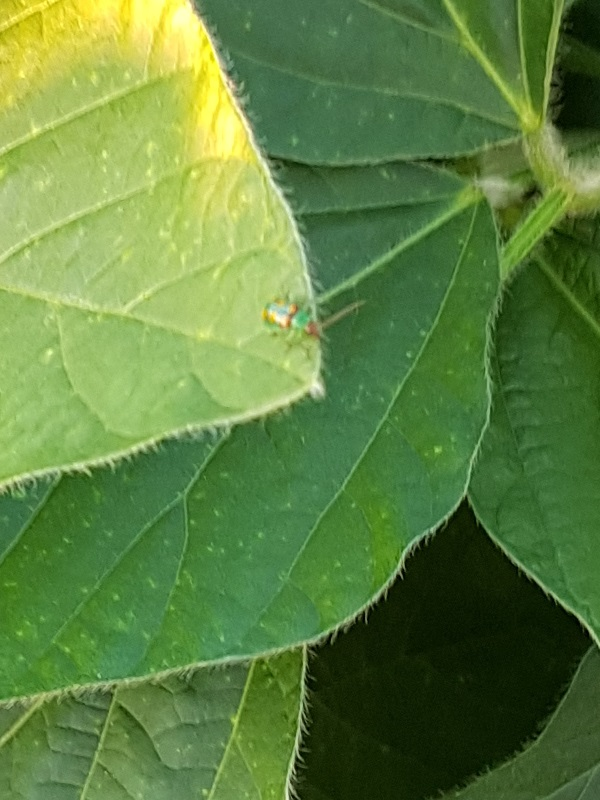Diabrotica_speciosa: (242, 284, 365, 372)
